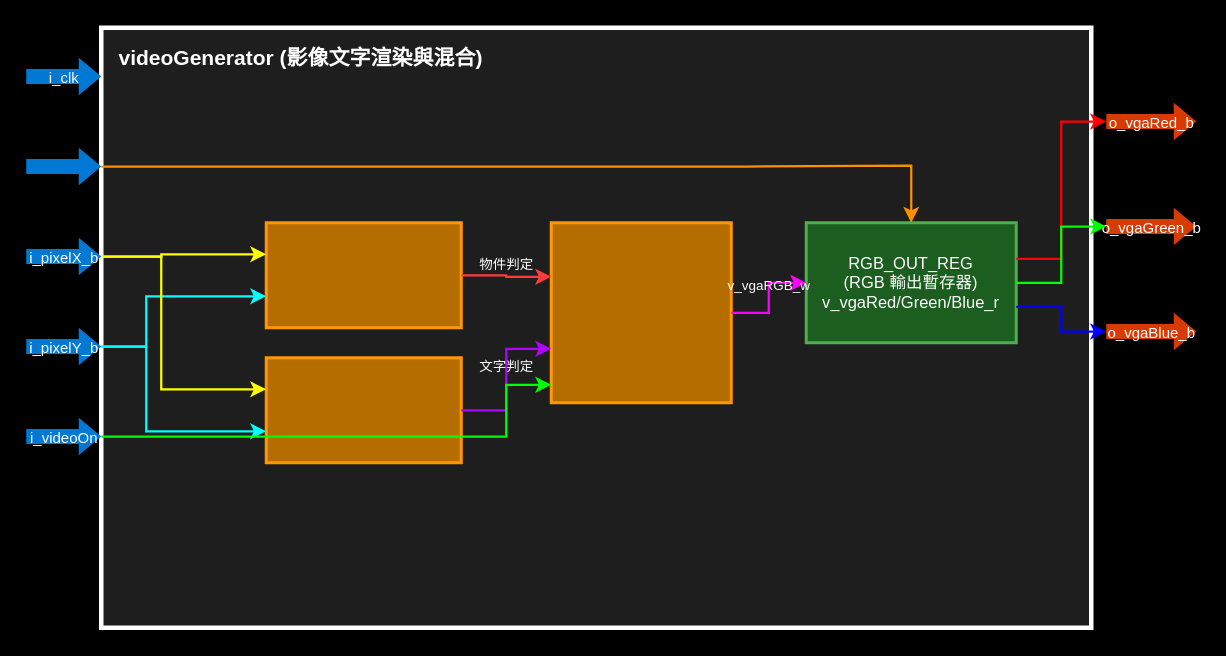
This 1226x656 diagram has some shape labels left out. The centre of each missing label's shape, as x and y in pixels:
COLOR_MIXER (色彩混合與優先權): pixel 640 312
DRAW_DET (繪圖區域判定) - 擋板 / 球體 / 網子: pixel 363 274
i_pixelEn: pixel 63 165
TEXT_DRAW (文字與分數判定) - 分數 / 贏家宣告: pixel 363 410
